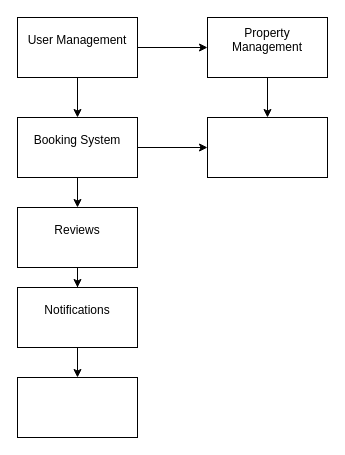
Some shapes in this 345 by 455 pixel diagram are drawn without their labels. Each missing label, with the box of its shape:
Admin Dashboard: (16, 376, 138, 438)
Payments: (206, 116, 328, 178)
